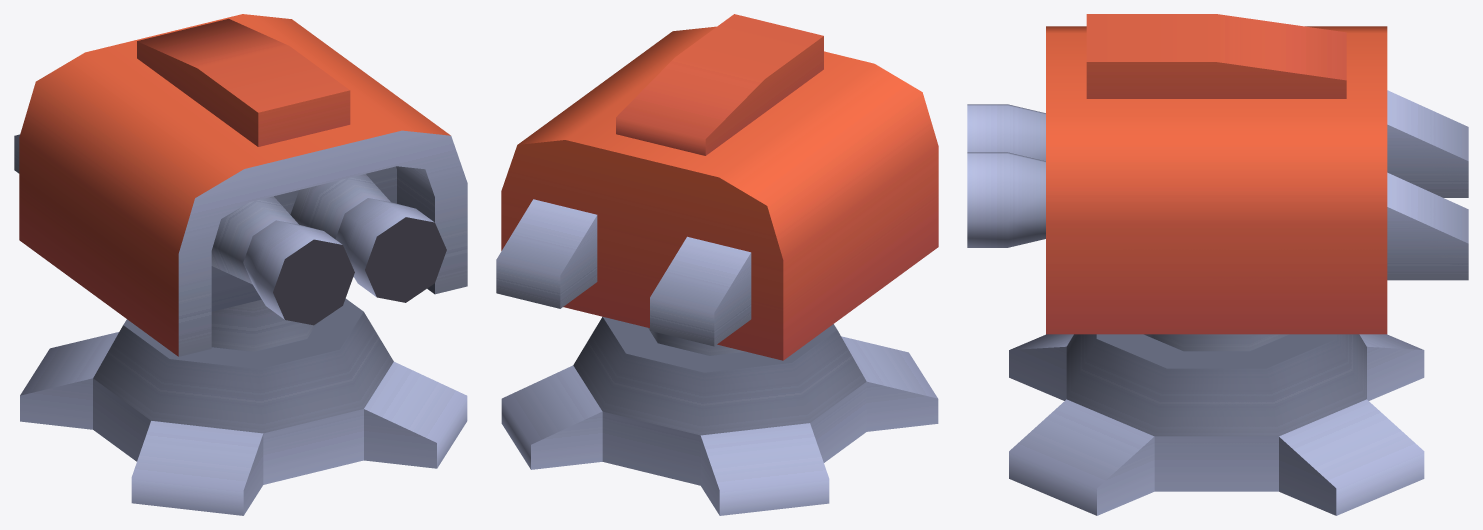
File: p-tower-weapon-turret.glb
The picture shows the model from 3 angles, left to right: view 1: azimuth 30°, elevation 25°; view 2: azimuth 150°, elevation 25°; view 3: azimuth 270°, elevation 25°; orthographic projection. The views are drawn at different scales.
Parts seen in each view (by area): view 1: barrel, weapon-turret; view 2: barrel, weapon-turret; view 3: barrel, weapon-turret.
Part boxes in pixels (x1,y1,x2,y2): barrel: (14,14,467,356); weapon-turret: (20,298,467,515); barrel: (496,14,938,360); weapon-turret: (501,316,938,515); barrel: (967,14,1468,334); weapon-turret: (1009,334,1424,515).
Size of the model in its own units: 0.511 by 0.53 by 0.6169.
1 material, 1 textured.
